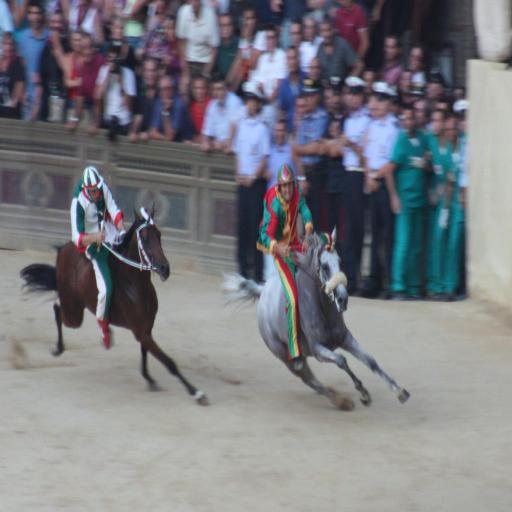Horse: (20, 204, 208, 406), (219, 224, 410, 414)
